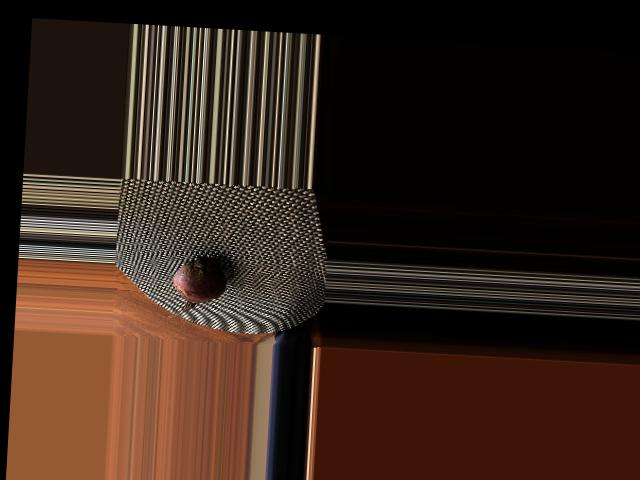beet: (162, 251, 235, 320)
